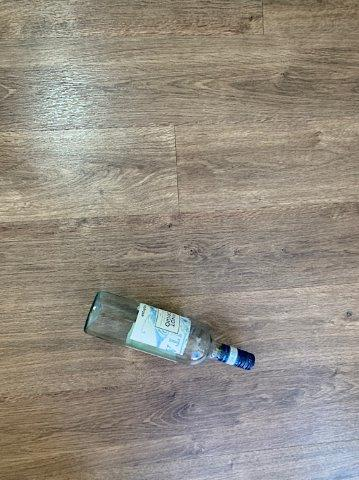botolkaca: (84, 292, 255, 370)
